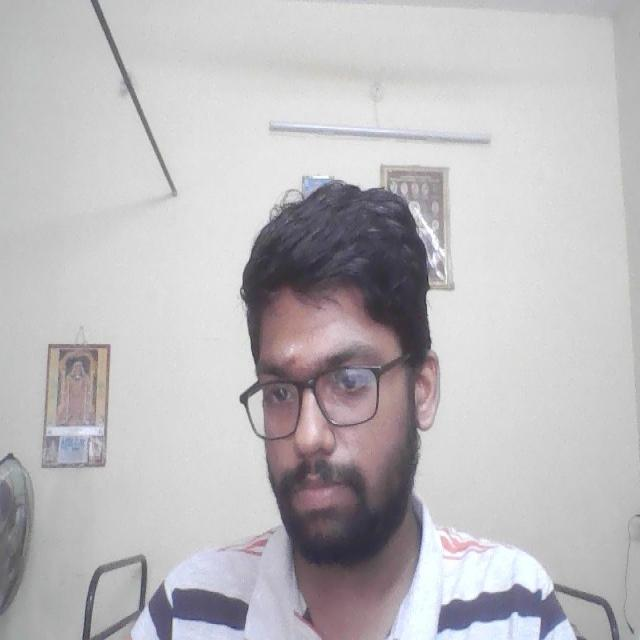Focused: (240, 286, 428, 539)
